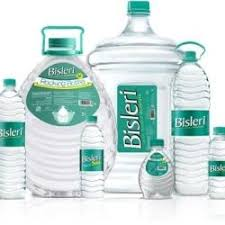Bisleri: (117, 86, 152, 150), (171, 111, 209, 134), (1, 121, 25, 149), (80, 149, 104, 170), (147, 158, 172, 177), (48, 67, 79, 79), (209, 160, 225, 177)
plastic: (98, 49, 169, 186), (30, 76, 96, 190)
